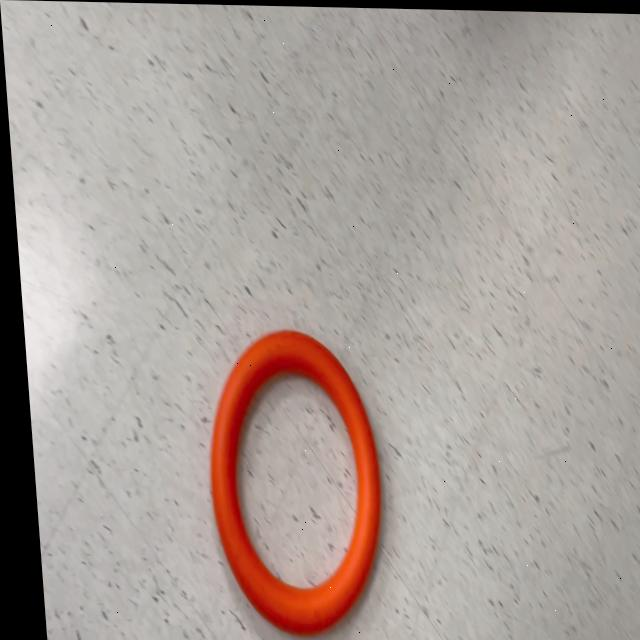note: (194, 327, 383, 640)
